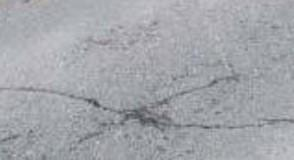alligator-crack: (1, 72, 293, 155)
